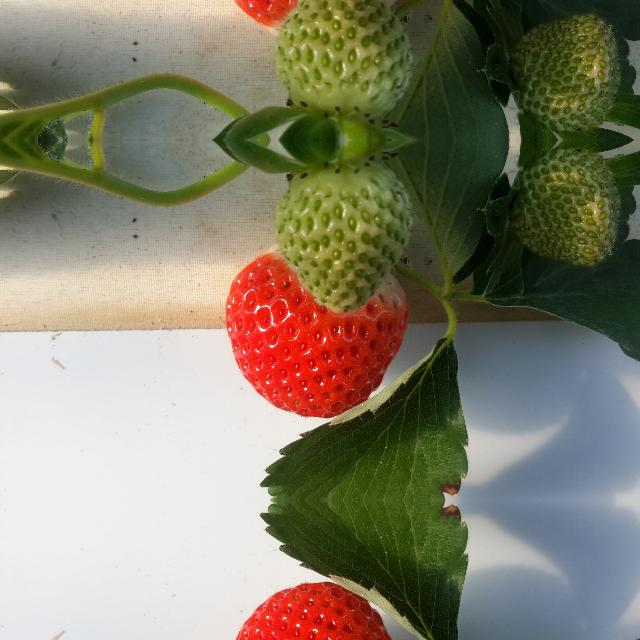Health_100: (225, 240, 408, 418), (224, 582, 407, 640), (224, 0, 407, 40)
